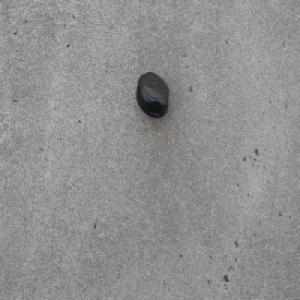FuelCap: (135, 71, 170, 120)
